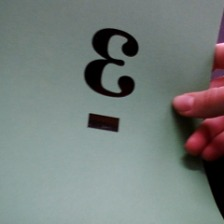green3: (79, 24, 148, 138)
